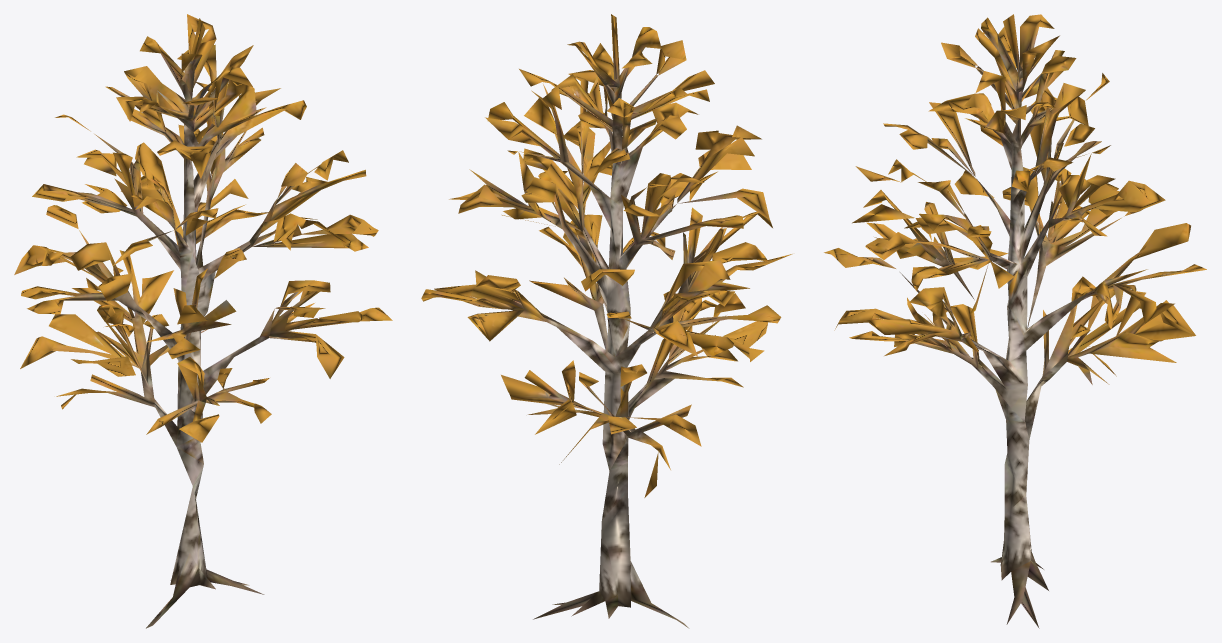
The model's file is tree_birch.glb.
The picture shows the model from 3 angles, left to right: view 1: azimuth 30°, elevation 25°; view 2: azimuth 150°, elevation 25°; view 3: azimuth 270°, elevation 25°; orthographic projection. The views are drawn at different scales.
Visible parts, largest first — view 1: tripo_node_4c777f0a-13b2-4369-9bc7-e2ecfccf3d9a; view 2: tripo_node_4c777f0a-13b2-4369-9bc7-e2ecfccf3d9a; view 3: tripo_node_4c777f0a-13b2-4369-9bc7-e2ecfccf3d9a.
Boxes of the visible parts, x1,y1,x2,y2 form: tripo_node_4c777f0a-13b2-4369-9bc7-e2ecfccf3d9a: (14, 14, 392, 628); tripo_node_4c777f0a-13b2-4369-9bc7-e2ecfccf3d9a: (421, 14, 792, 628); tripo_node_4c777f0a-13b2-4369-9bc7-e2ecfccf3d9a: (824, 14, 1206, 628).
Bounding box in the file's own units: 0.5201 × 0.9947 × 0.5925.
Materials: 1 (1 with a texture image).
